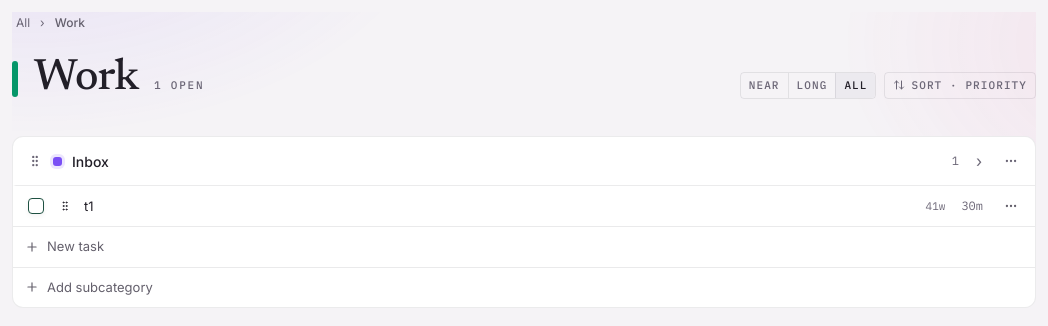
Test: CategoryView (chunk 31 re-skin) › mounts the horizon control and Near writes hupo.taskHorizon (chunk 76)
This screenshot has width=1048, height=326.
Expected: the heading "Work" is shown, [34, 46, 138, 112]
Expected: the element named "Horizon" is shown, [740, 72, 876, 98]
Click the radio button labelled "Near" at (764, 85), box [741, 73, 788, 98]
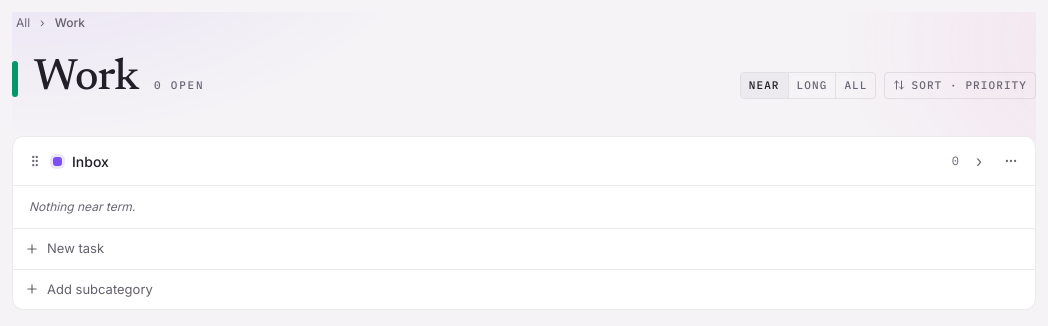
Result: the text "0 open" is shown at [154, 77, 204, 94]
